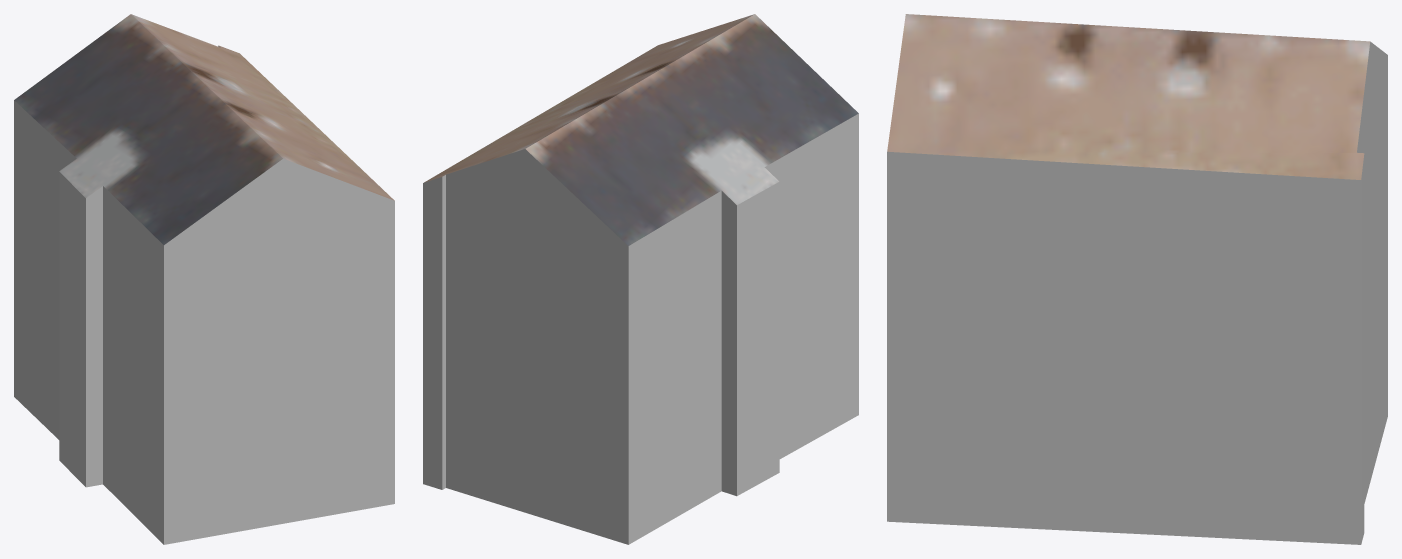
File: DEBW_0010007Txhw.gltf
The picture shows the model from 3 angles, left to right: view 1: azimuth 30°, elevation 25°; view 2: azimuth 150°, elevation 25°; view 3: azimuth 270°, elevation 25°; orthographic projection. The views are drawn at different scales.
Visible parts, largest first — view 1: Z_UP; view 2: Z_UP; view 3: Z_UP.
Boxes of the visible parts, box(x1,y1,x2,y2) form: Z_UP: box(14, 14, 394, 544); Z_UP: box(423, 14, 858, 544); Z_UP: box(887, 14, 1387, 544).
Size of the model in its own units: 12.38 by 16.98 by 17.29.
2 materials, 1 textured.
